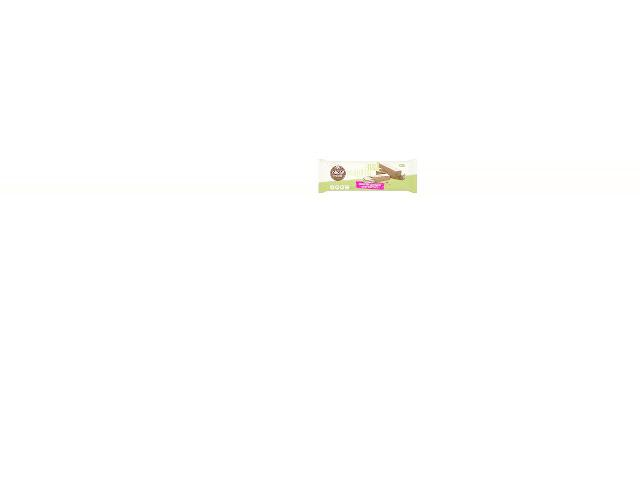chocolate: (318, 156, 419, 197)
